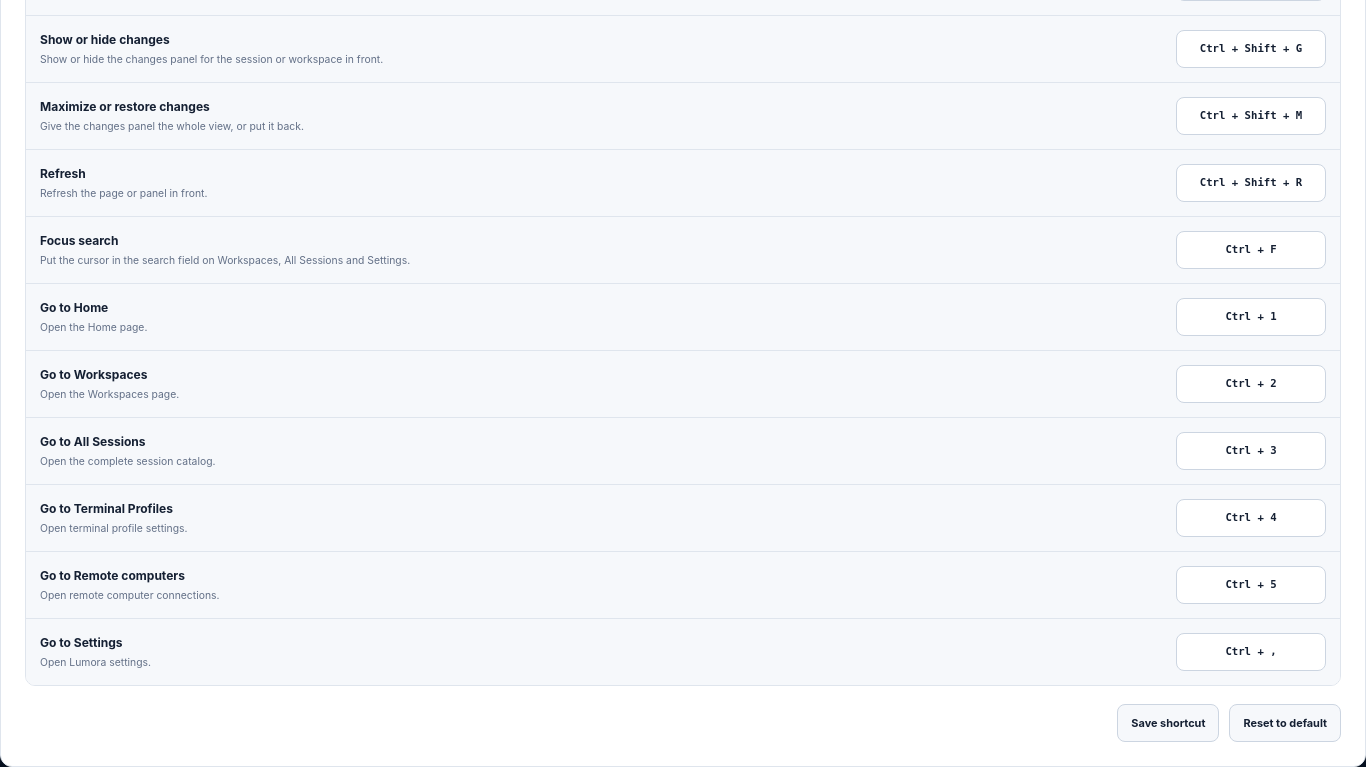
Test case: KeyboardShortcutsPanel › keeps the effective shortcut when resetting cannot be persisted
(page scrolled)
What coordinates should you click on to do the following:
click the button "Reset to default"
I would click on:
 (1285, 723)
Its box is [1229,704,1341,742].
(page scrolled)
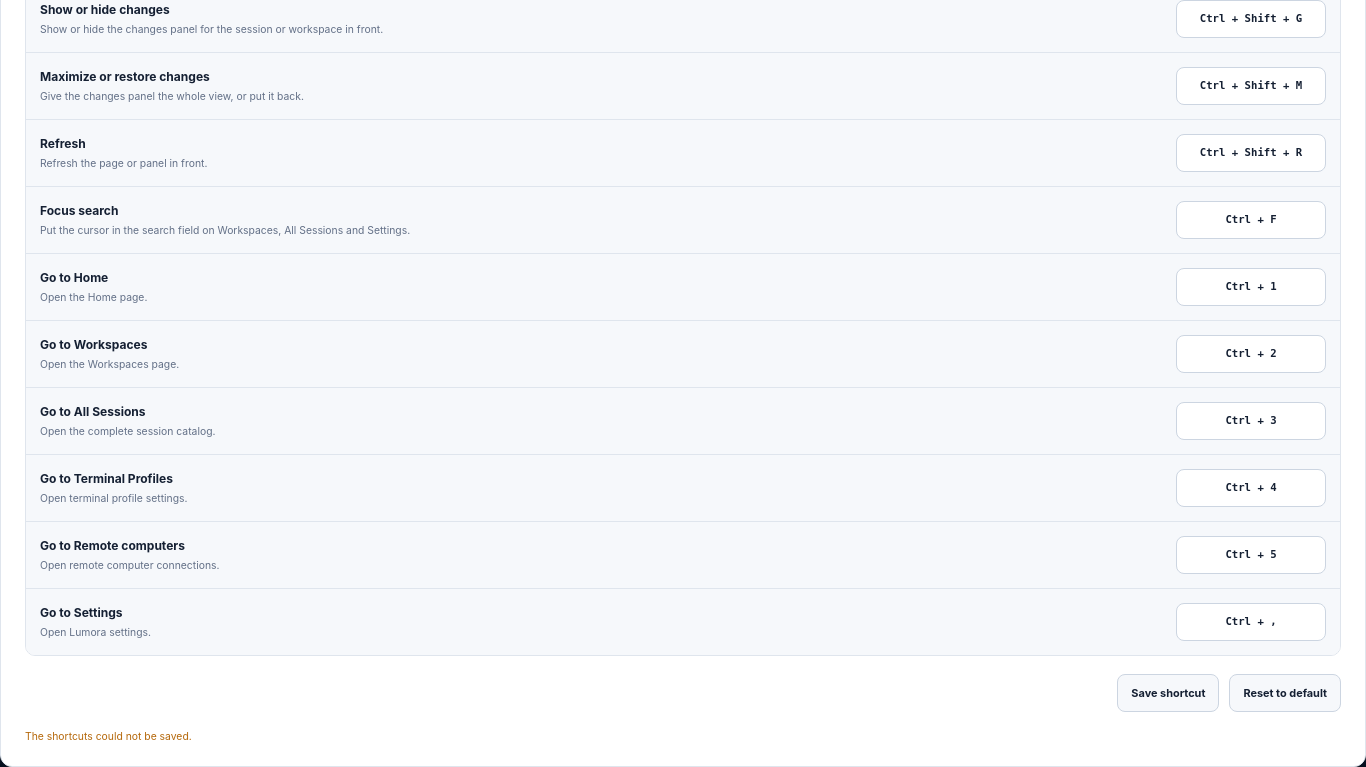
Now the message shows "could not be saved", box [25,730,192,742]
